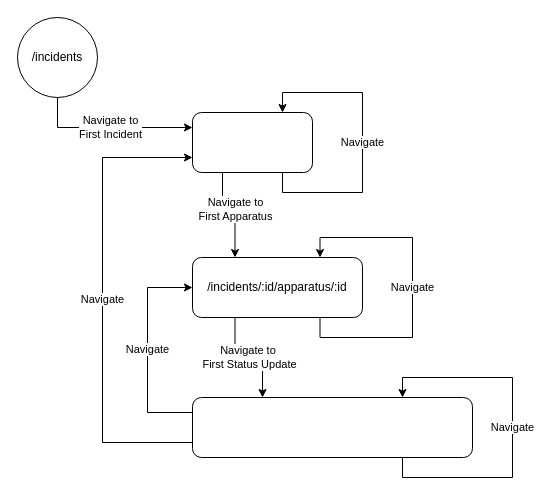
Image size: 551x503. Some labels were removed from this diagram. The centre of each missing label's shape, as x and y in pixels:
/incidents/:id: [252,142]
/incidents/:id/apparatus/:id/status_update/:id: [332,427]
